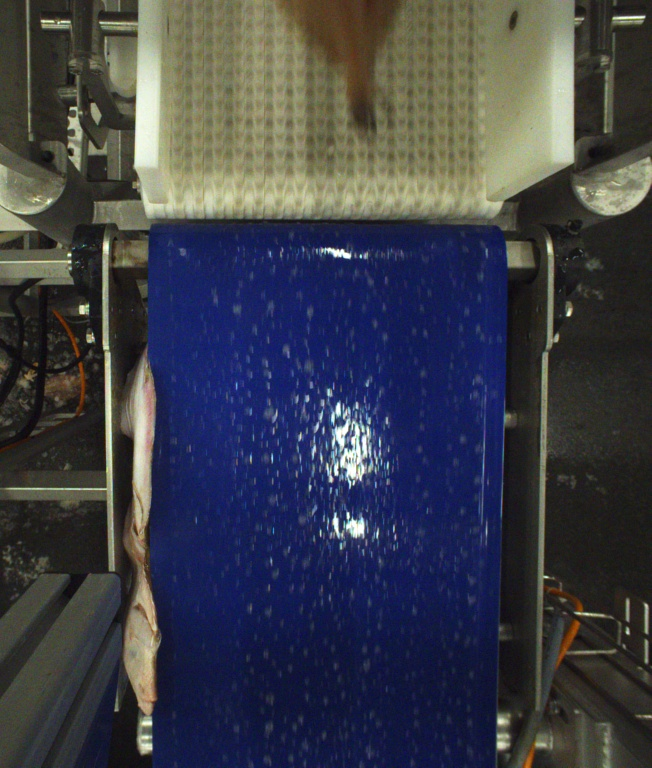WIT: (279, 0, 396, 131)
